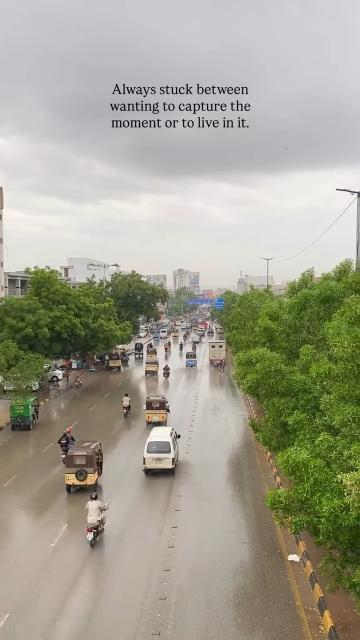Van: (136, 424, 182, 478)
